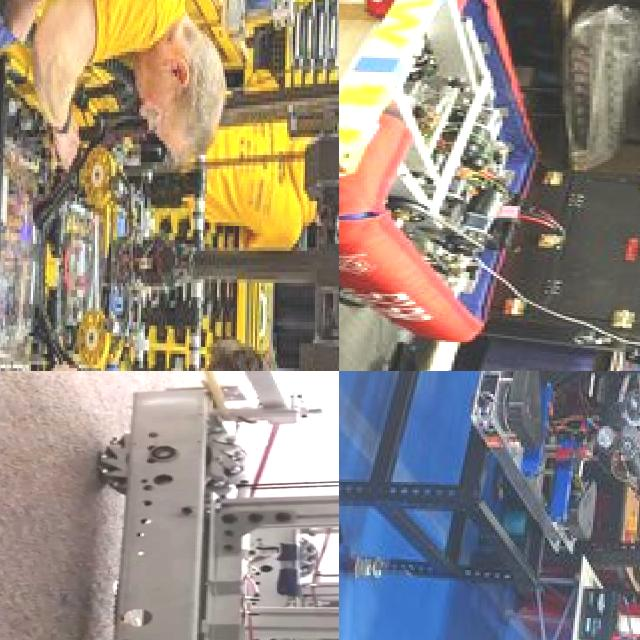FRC-Robots: (0, 33, 339, 371), (339, 0, 615, 371), (0, 371, 339, 640), (373, 371, 640, 640)
